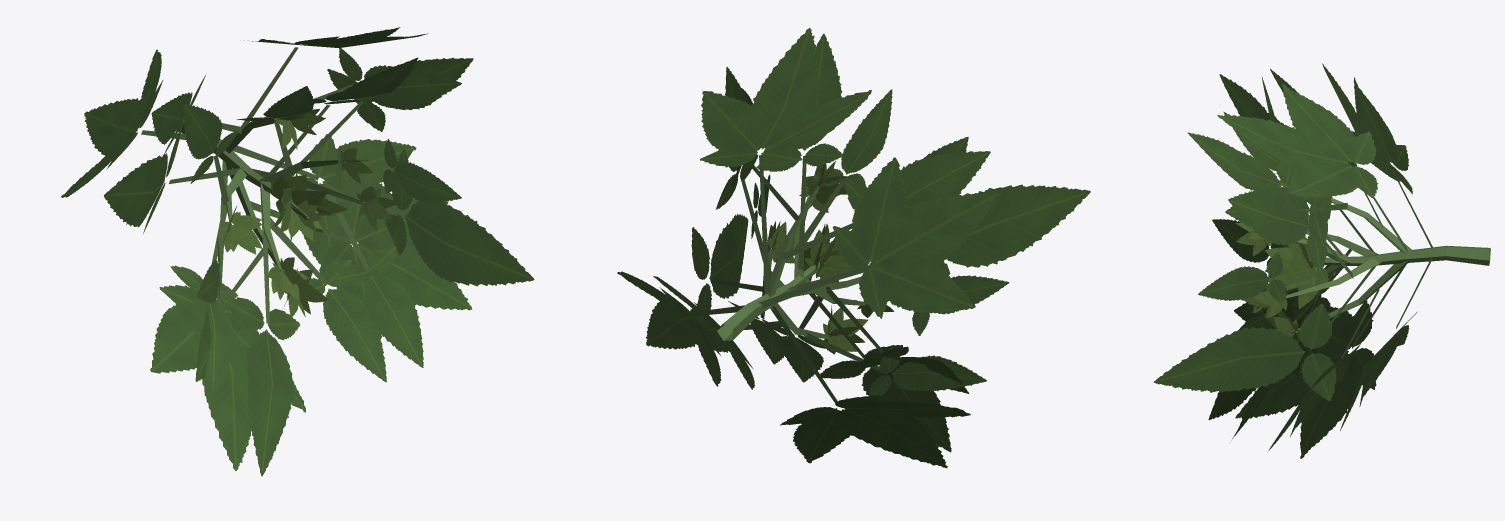
The model's file is p_afghan_vegetative_c0_cards.obj.
The picture shows the model from 3 angles, left to right: view 1: azimuth 30°, elevation 25°; view 2: azimuth 150°, elevation 25°; view 3: azimuth 270°, elevation 25°; orthographic projection. The views are drawn at different scales.
Bounding box in the file's own units: 1.18 × 1.17 × 0.807.
Materials: 1 (1 with a texture image).
